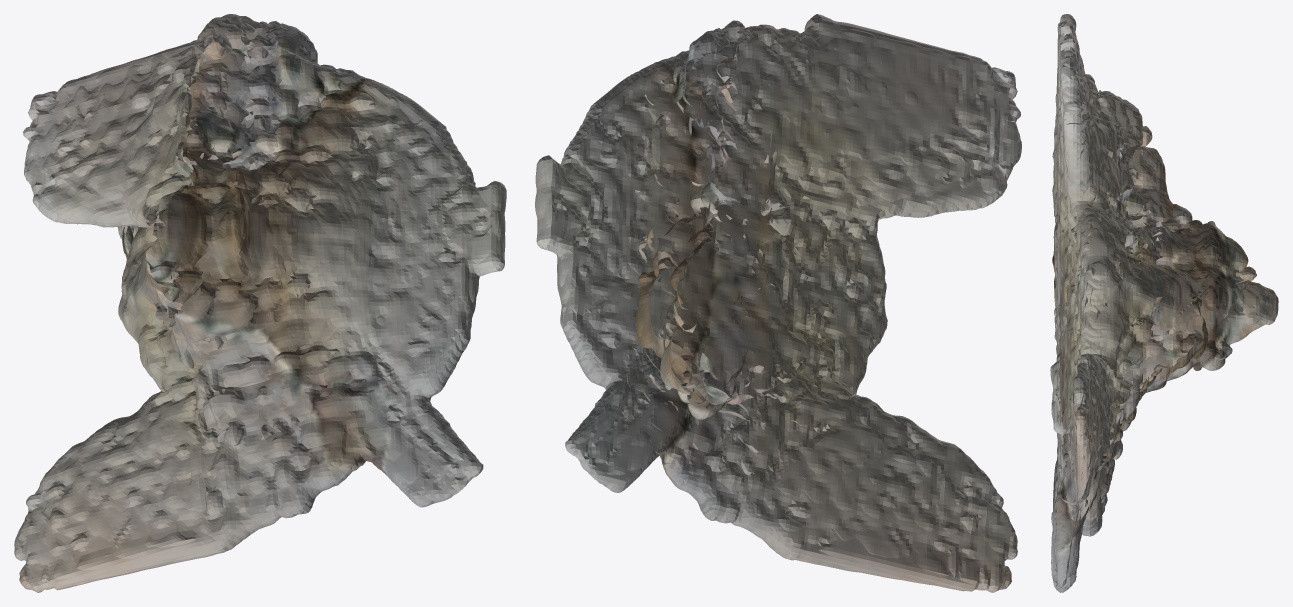
The picture shows the model from 3 angles, left to right: view 1: azimuth 30°, elevation 25°; view 2: azimuth 150°, elevation 25°; view 3: azimuth 270°, elevation 25°; orthographic projection. The views are drawn at different scales.
Visible parts, largest first — view 1: world; view 2: world; view 3: world.
Part boxes in pixels (x1,y1,x2,y2): world: (14,14,506,592); world: (535,14,1021,592); world: (1050,14,1278,592).
Bounding box in the file's own units: 0.9407 × 0.9938 × 0.469.
